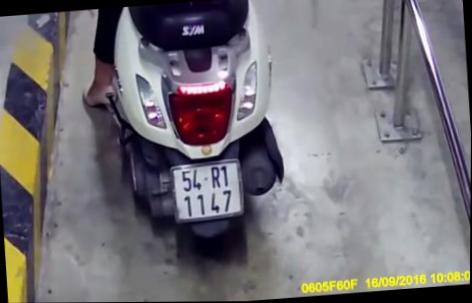LP: (168, 158, 249, 224)
